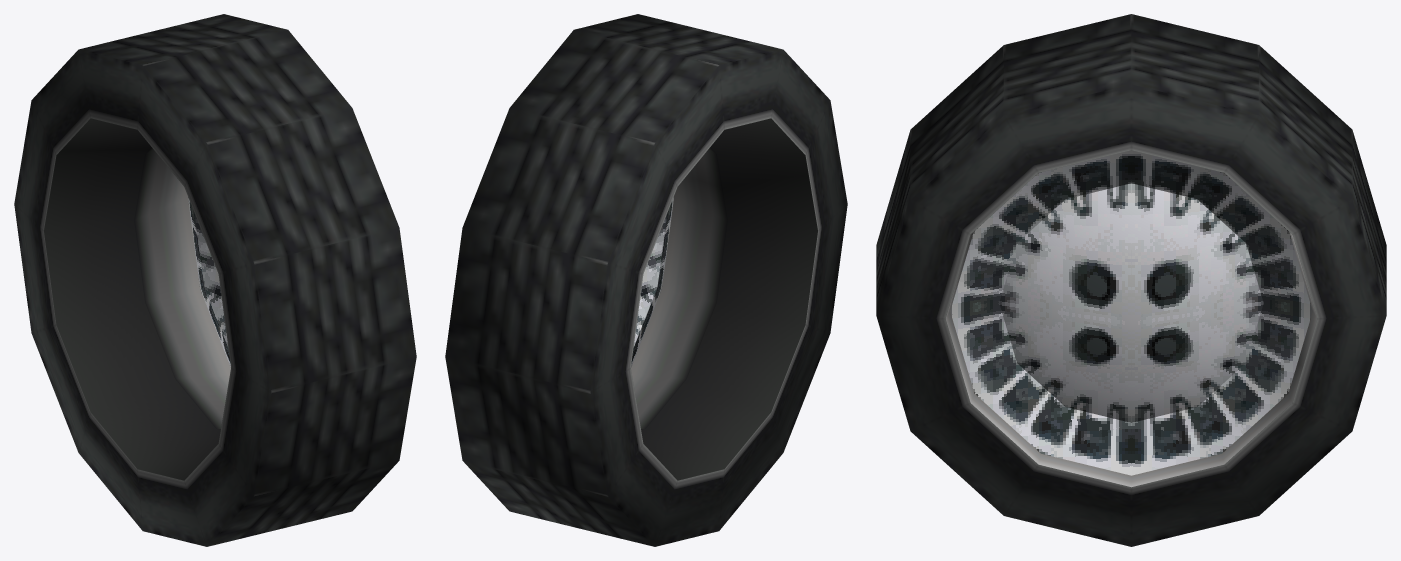
Rendered from DefaultWheel_blistac.glb.
3 renders of one model, left to right at view 1: azimuth 30°, elevation 25°; view 2: azimuth 150°, elevation 25°; view 3: azimuth 270°, elevation 25°, orthographic.
Parts seen in each view (by area): view 1: wheel; view 2: wheel; view 3: wheel.
Part boxes in pixels (x1=…): wheel: x1=14, y1=14, x2=416, y2=546; wheel: x1=445, y1=14, x2=847, y2=546; wheel: x1=876, y1=14, x2=1386, y2=546.
Size of the model in its own units: 0.2647 by 0.7028 by 0.7028.
3 materials, 3 textured.
